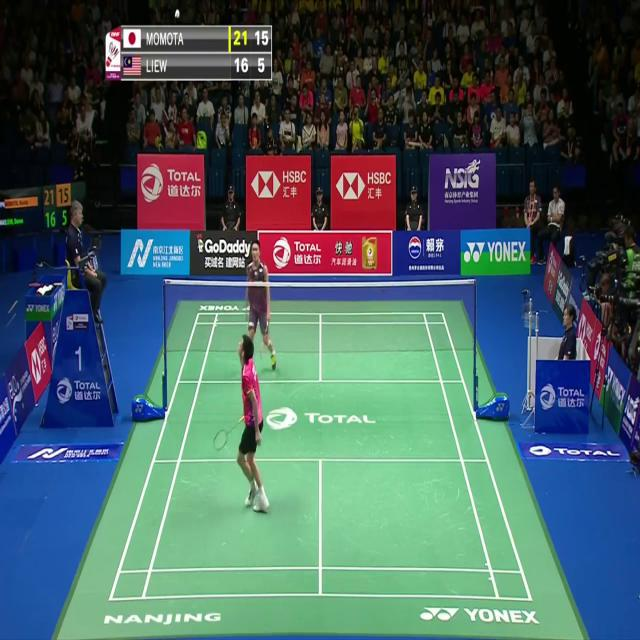Shuttlecock: (174, 8, 180, 19)
